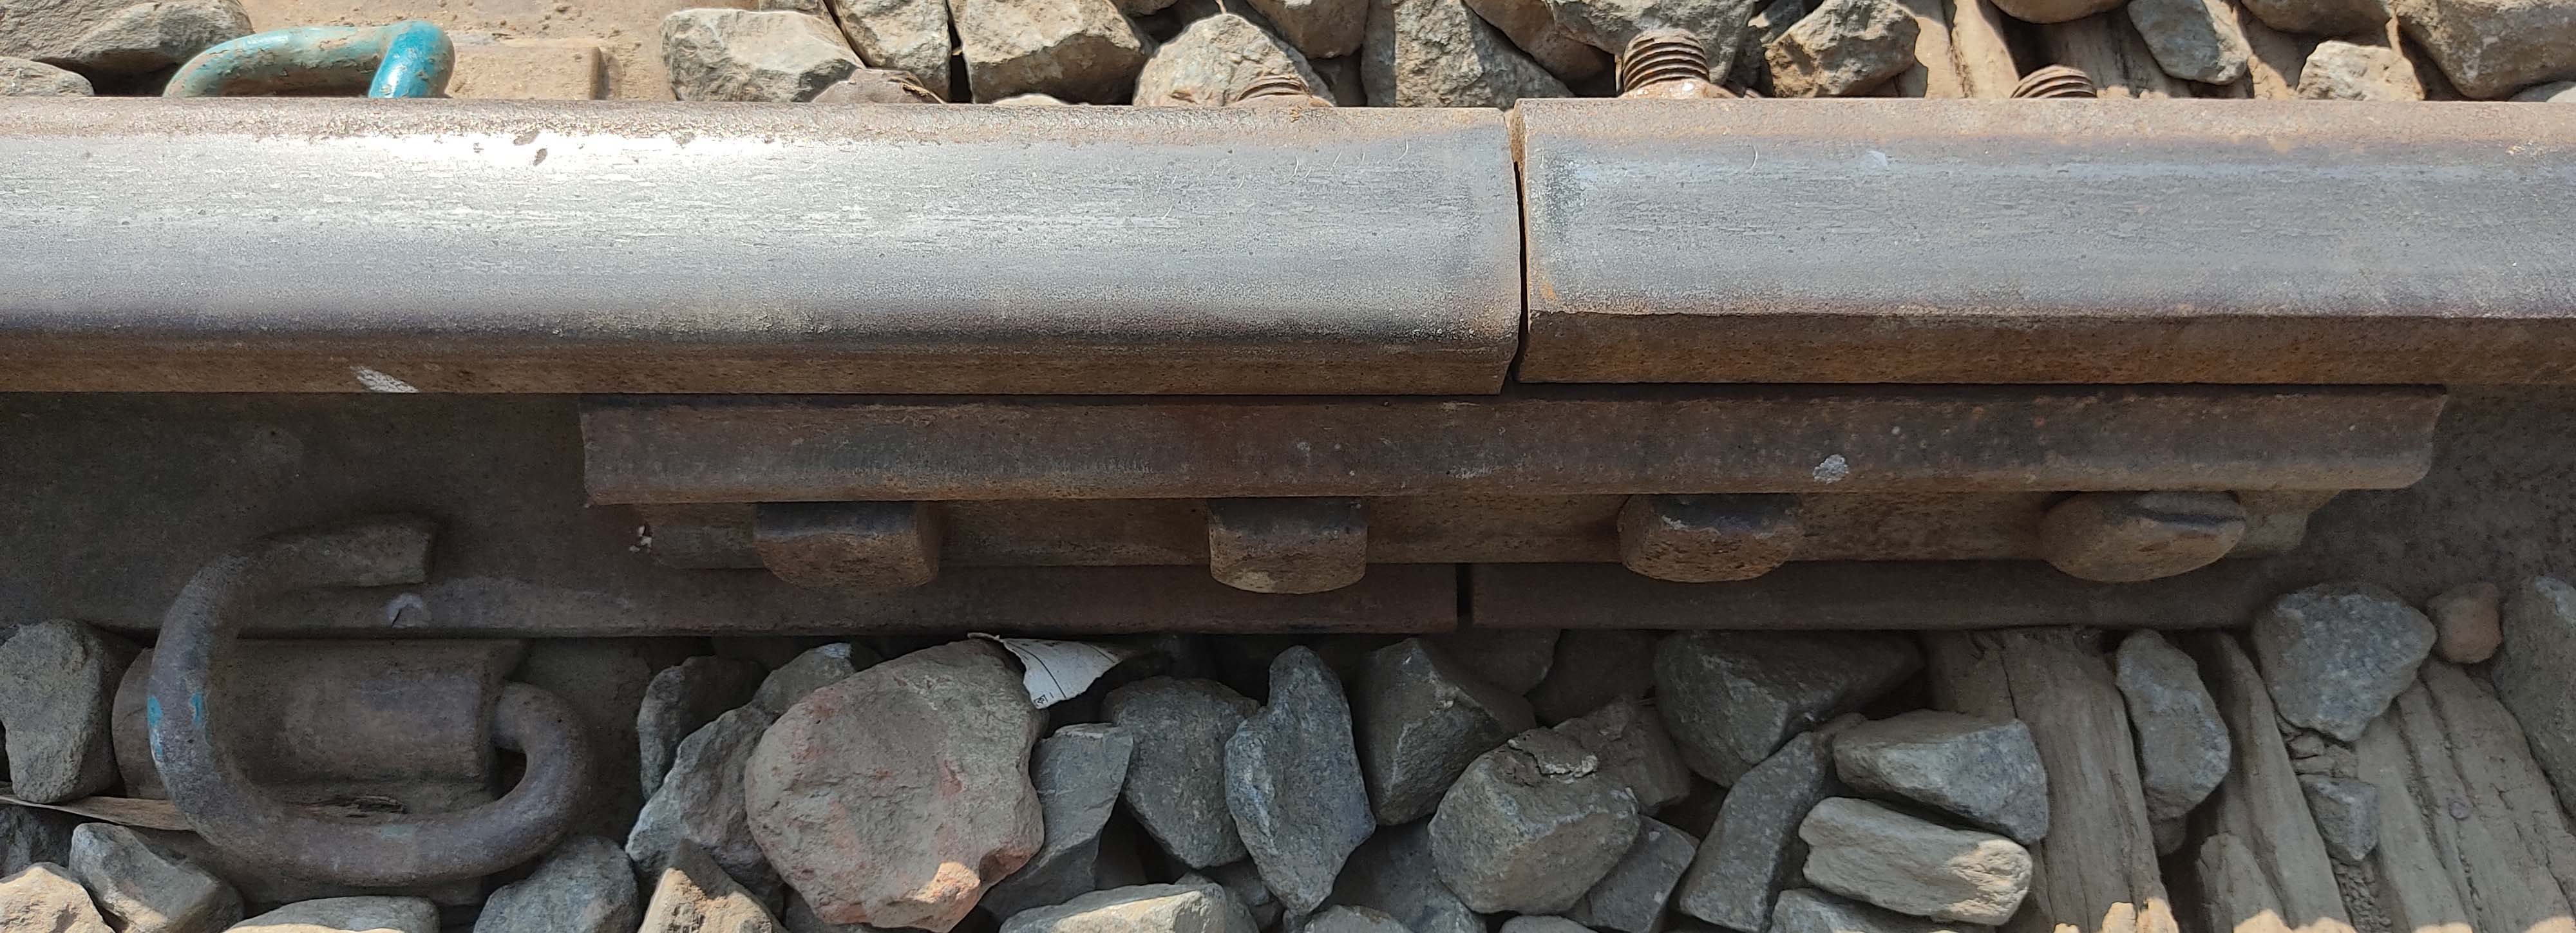error1: (125, 470, 624, 913), (161, 13, 467, 123)
error2: (1467, 76, 1600, 432)
